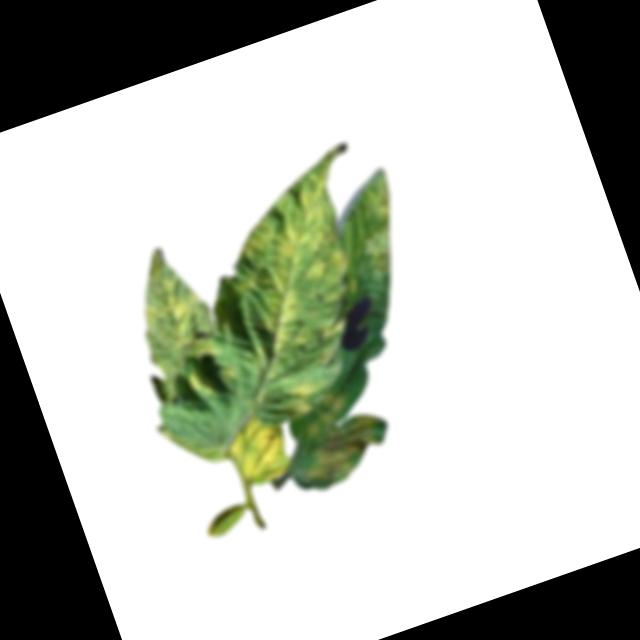Leaf_Mold: (195, 152, 392, 413), (115, 236, 226, 384), (276, 381, 391, 493), (335, 167, 417, 279), (212, 405, 295, 495)
